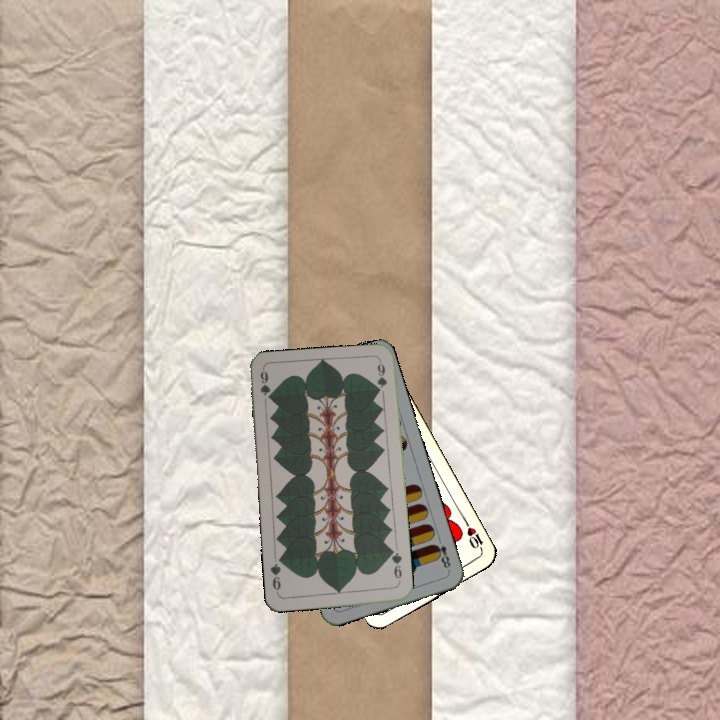E8: (430, 534, 453, 574)
G9: (386, 546, 404, 587), (256, 367, 274, 403)
H10: (461, 517, 486, 554)
